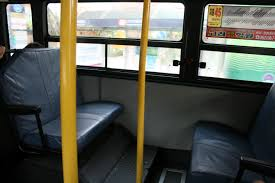seat: (8, 48, 123, 149)
